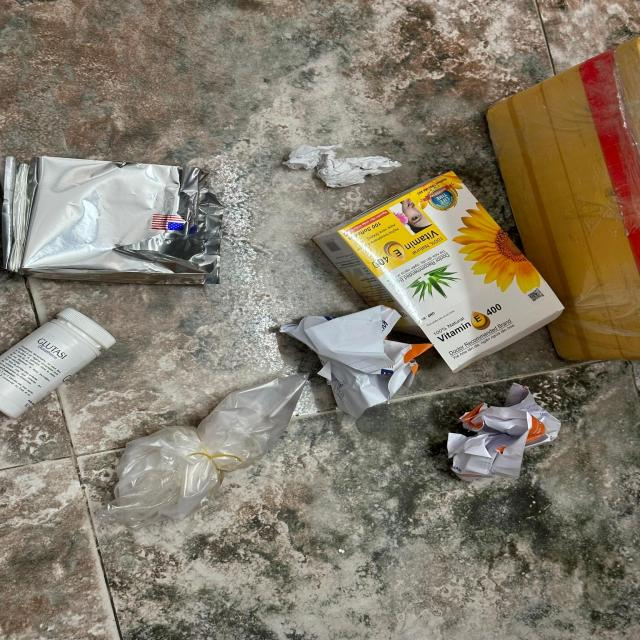bag: (312, 170, 564, 373), (112, 373, 304, 517)
bottle: (0, 306, 115, 420)
napkin: (282, 142, 400, 188)
packet: (2, 156, 222, 287)
paper: (279, 305, 433, 420), (450, 382, 560, 480)
